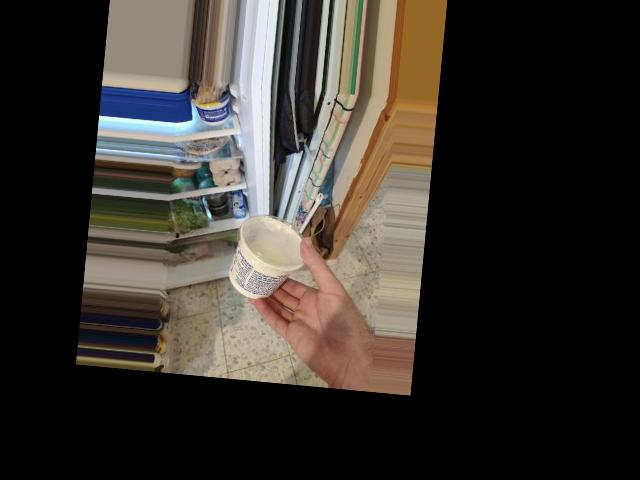cotage: (232, 213, 304, 305)
